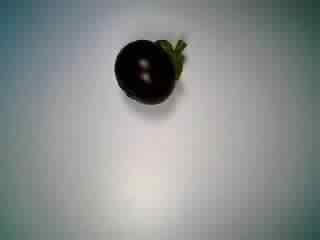mangosteen: (109, 31, 192, 108)
